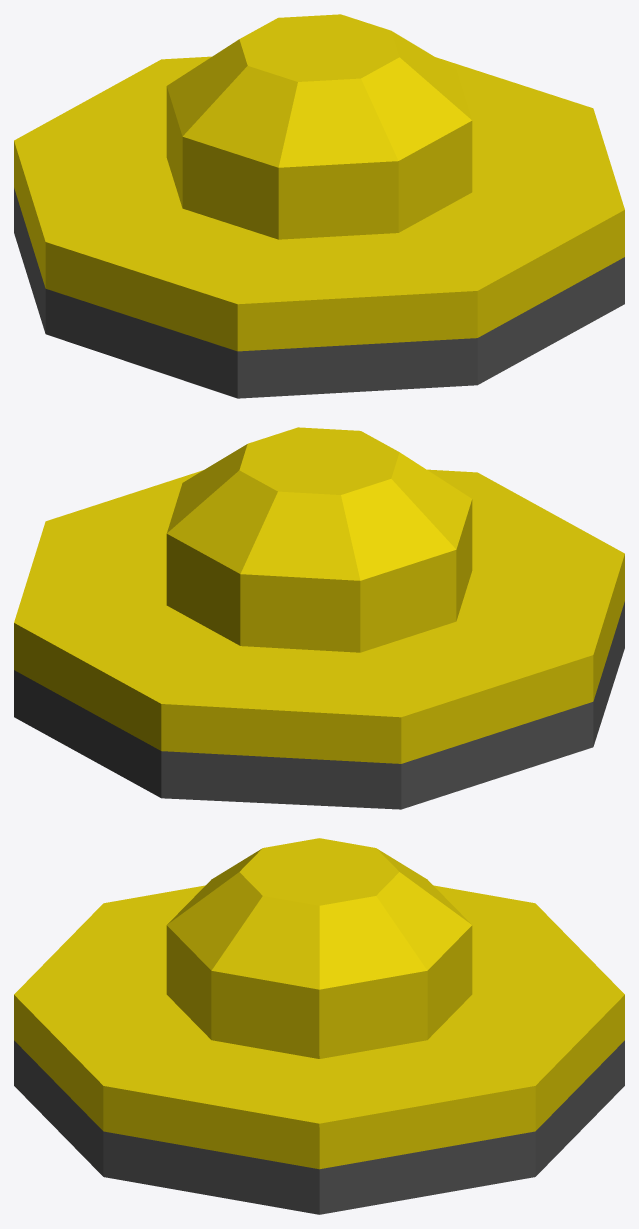
Rendered from Magnet.fbx.
The picture shows the model from 3 angles, top to bottom: view 1: azimuth 30°, elevation 25°; view 2: azimuth 150°, elevation 25°; view 3: azimuth 270°, elevation 25°; orthographic projection. The views are drawn at different scales.
Visible parts, largest first — view 1: Magnet; view 2: Magnet; view 3: Magnet.
Boxes of the visible parts, left/top/right/bottom form: Magnet: left=14, top=14, right=624, bottom=398; Magnet: left=14, top=427, right=624, bottom=809; Magnet: left=14, top=838, right=624, bottom=1214.
Bounding box in the file's own units: 6.63 × 2.57 × 6.63.
